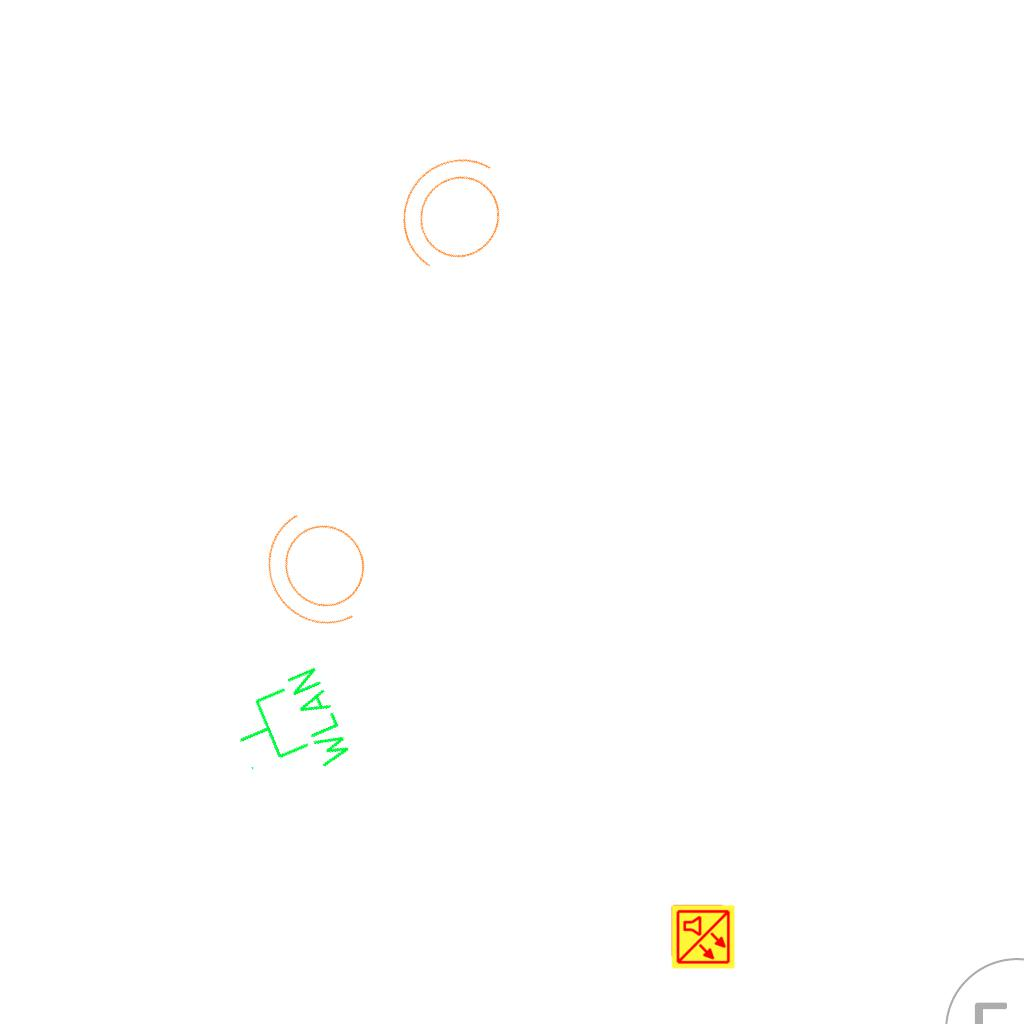OKW_Multisensormelder_(Kombination_optischer_Rauch-Kahlenmonoxid_Waerme-Melder): (670, 904, 736, 970)
Scheinwerfer_fuer_Alarmbeleuchtung: (371, 131, 537, 303), (241, 486, 403, 656)
WLAN: (220, 661, 358, 800)
